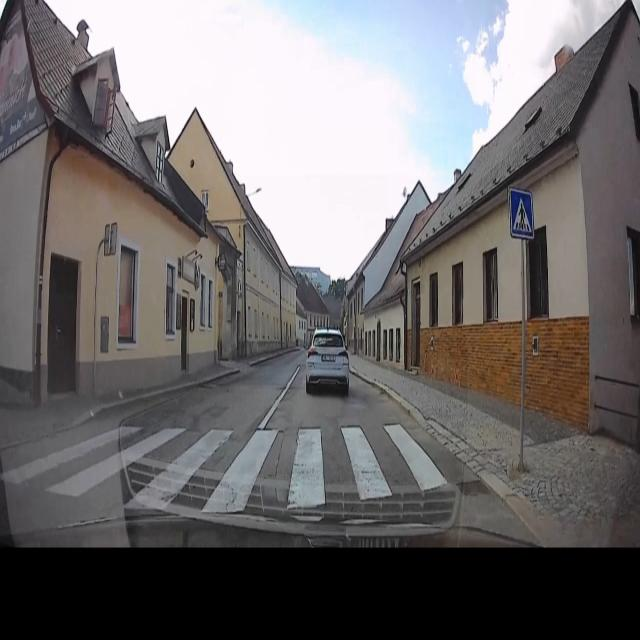Pedestrian crosswalk: (37, 415, 455, 519), (506, 184, 536, 242)
